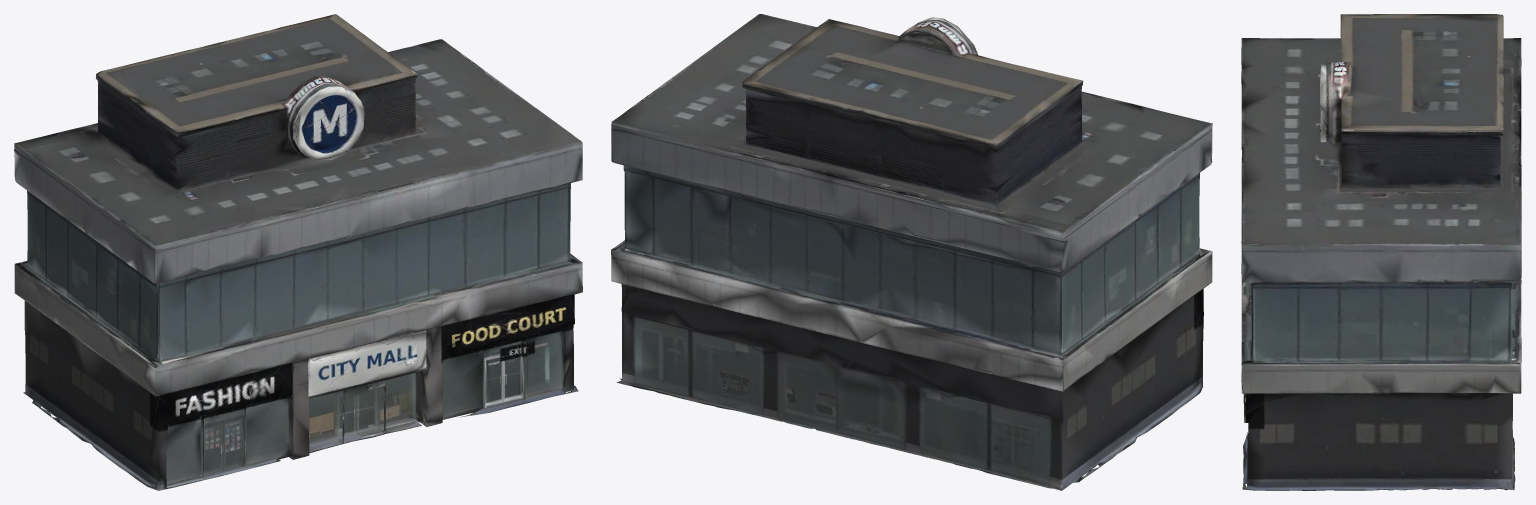
The model's file is shop-mall.glb.
3 renders of one model, left to right at view 1: azimuth 30°, elevation 25°; view 2: azimuth 150°, elevation 25°; view 3: azimuth 270°, elevation 25°, orthographic. The views are drawn at different scales.
Visible parts, largest first — view 1: Cafe; view 2: Cafe; view 3: Cafe.
Boxes of the visible parts, <box> form: Cafe: <box>14,14,582,490</box>; Cafe: <box>611,14,1212,490</box>; Cafe: <box>1241,14,1521,490</box>.
Bounding box in the file's own units: 35.56 × 26 × 20.34.
Materials: 1 (1 with a texture image).
